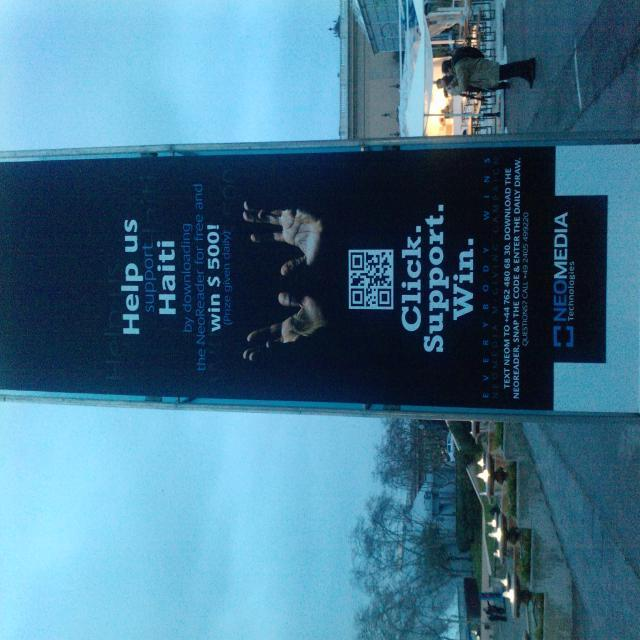qr-code: (351, 252, 392, 306)
